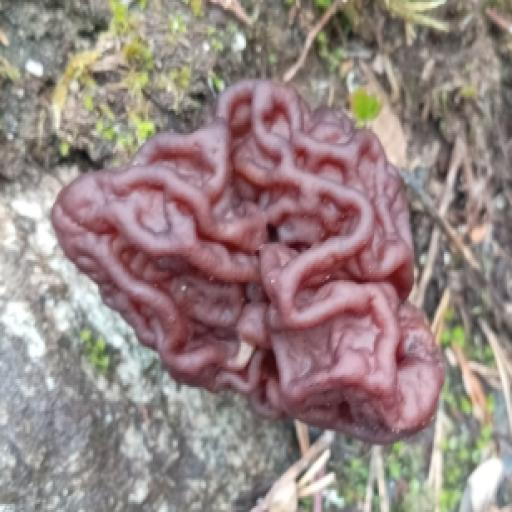mushroom: (52, 74, 449, 448)
